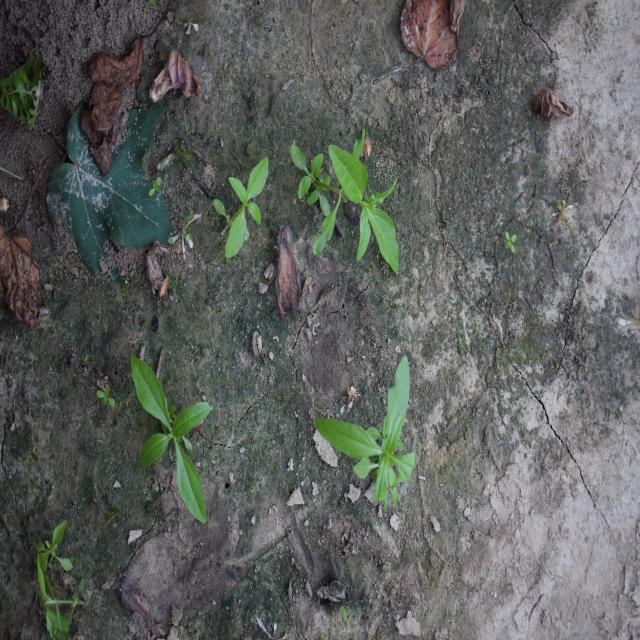Eclipta: (313, 354, 418, 514), (290, 126, 400, 278), (130, 350, 213, 524), (212, 156, 270, 259)
